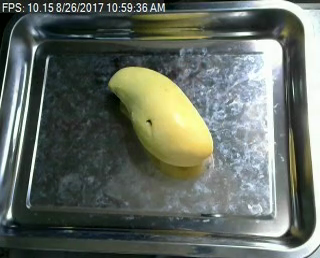Mango: (106, 61, 228, 178)
